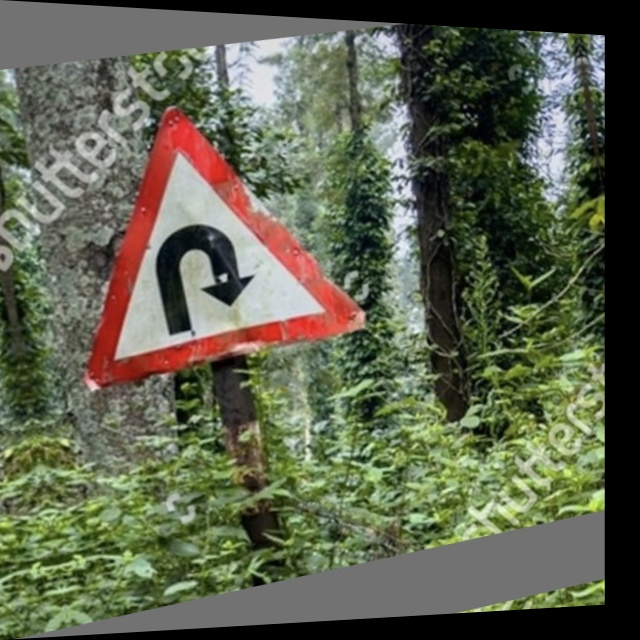Right_Hair_Pin_Bend: (42, 73, 365, 376)
